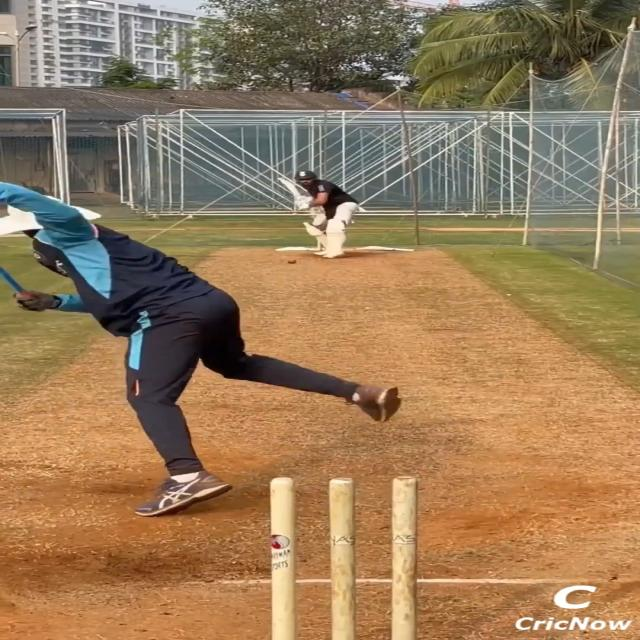ball: (287, 259, 297, 264)
stump: (265, 476, 423, 640)
